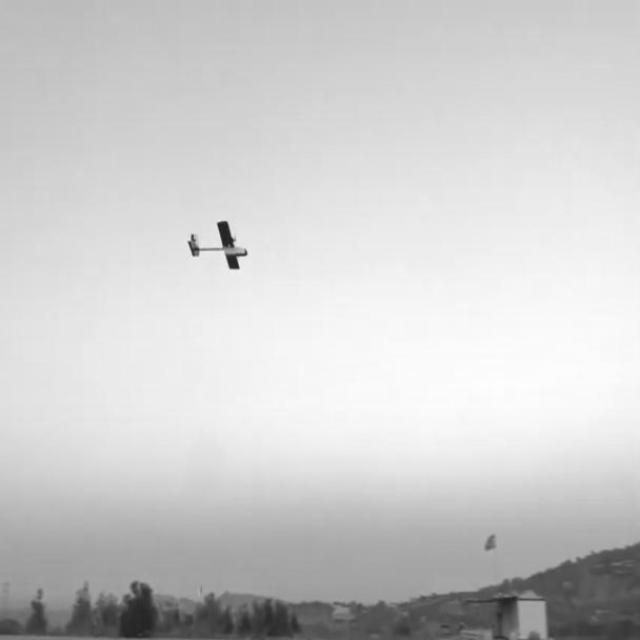iha: (215, 218, 218, 271)
